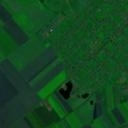alloviz: (58, 80, 73, 100), (80, 91, 89, 98)
